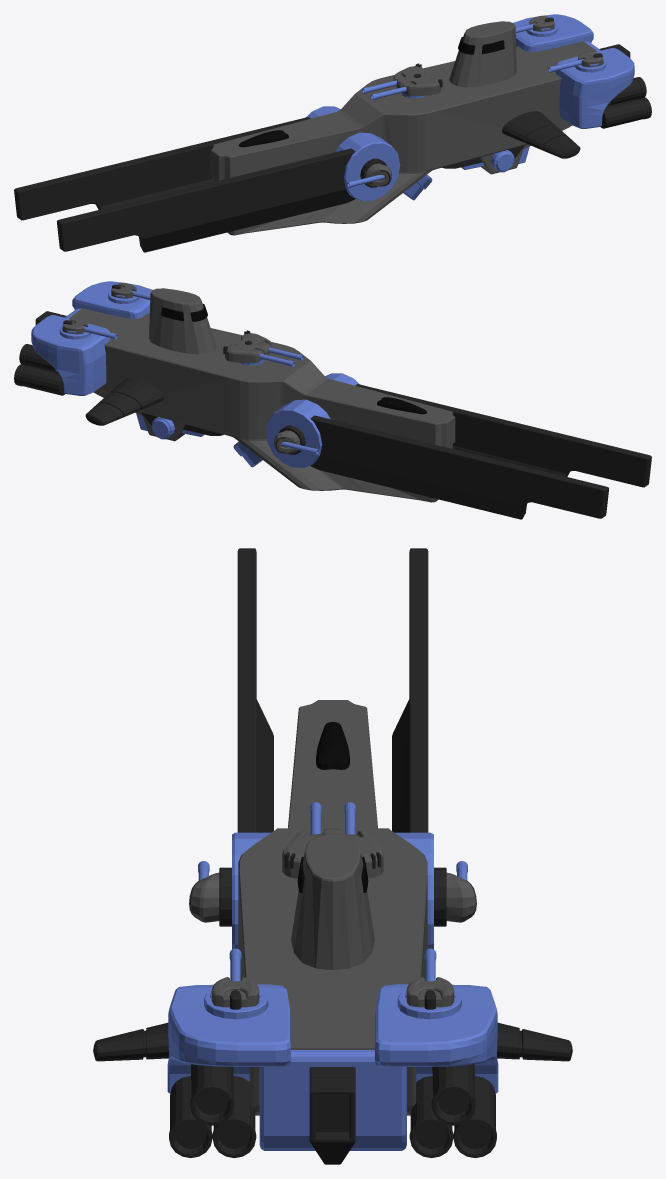
File: fga_croiseur1.glb
3 renders of one model, top to bottom at view 1: azimuth 30°, elevation 25°; view 2: azimuth 150°, elevation 25°; view 3: azimuth 270°, elevation 25°, orthographic. The views are drawn at different scales.
Parts seen in each view (by area): view 1: Light_Cruiser_1; view 2: Light_Cruiser_1; view 3: Light_Cruiser_1.
Boxes of the visible parts, bbox=[...] form: Light_Cruiser_1: bbox=[14, 14, 651, 252]; Light_Cruiser_1: bbox=[14, 281, 651, 519]; Light_Cruiser_1: bbox=[93, 548, 572, 1164].
Size of the model in its own units: 7773 by 1860 by 2748.
1 material, 1 textured.
